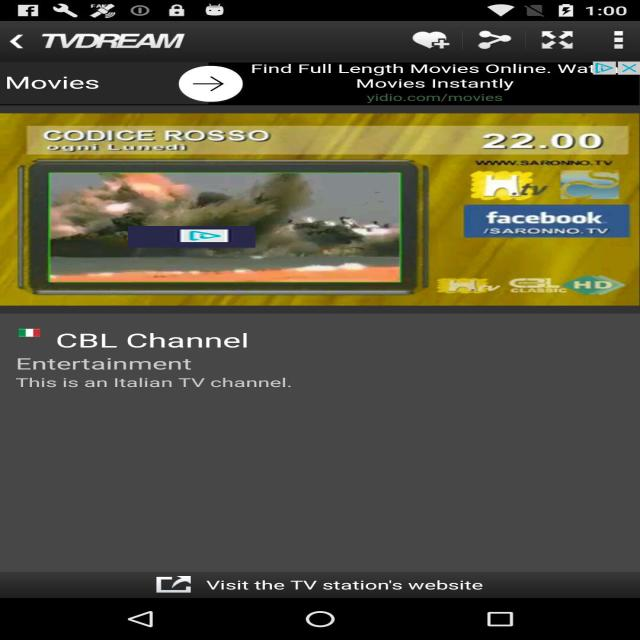sneaking: (128, 226, 255, 248)
